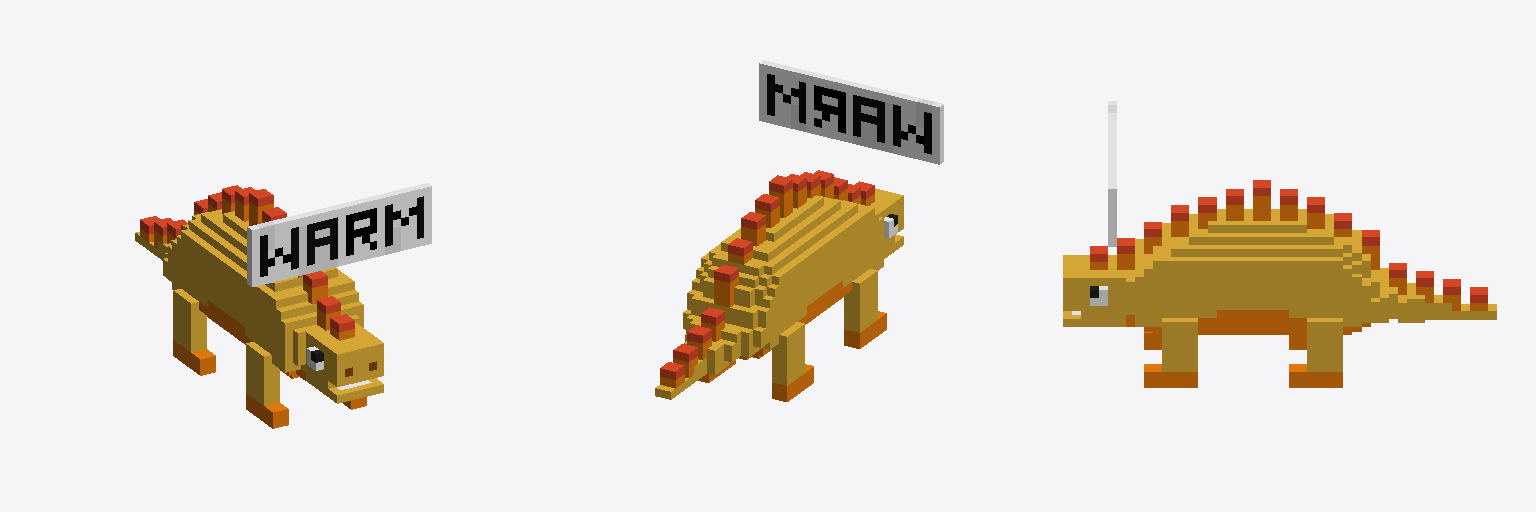
The picture shows the model from 3 angles: view 1: azimuth 30°, elevation 25°; view 2: azimuth 150°, elevation 25°; view 3: azimuth 270°, elevation 25°; orthographic projection.
Parts seen in each view (by area): view 1: Matrix_33; view 2: Matrix_33; view 3: Matrix_33.
Part boxes in pixels (x1,y1,x2,y2): Matrix_33: (135,183,431,428); Matrix_33: (655,60,943,401); Matrix_33: (1063,101,1496,387).
Size of the model in its own units: 23 by 27 by 48.
Materials: 1 (1 with a texture image).